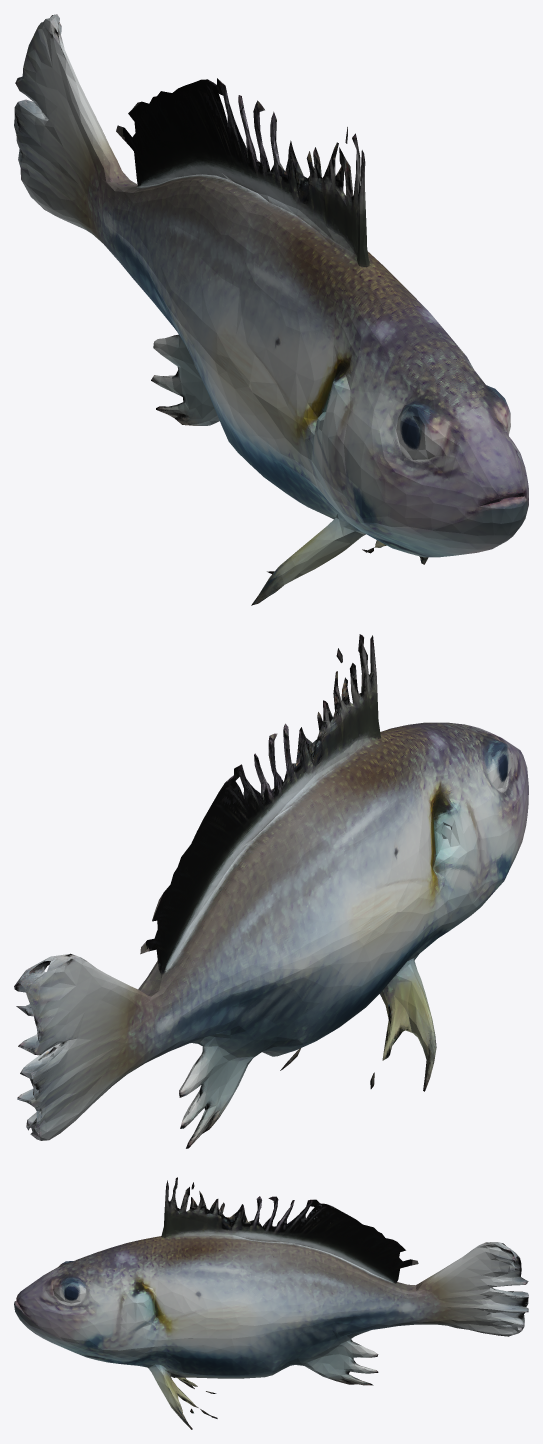
Rendered from boguchi.glb.
3 views of the same model, one above another, from view 1: azimuth 30°, elevation 25°; view 2: azimuth 150°, elevation 25°; view 3: azimuth 270°, elevation 25° (orthographic). The views are drawn at different scales.
Parts seen in each view (by area): view 1: world; view 2: world; view 3: world.
Part boxes in pixels (<box>): world: <box>14,14,528,605</box>; world: <box>14,634,528,1148</box>; world: <box>14,1177,528,1429</box>.
Bounding box in the file's own units: 0.194 × 0.5002 × 0.9999.
Materials: 1 (1 with a texture image).
